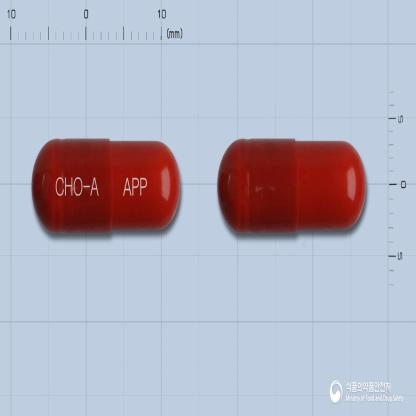pill: (30, 136, 181, 235), (216, 136, 367, 234)
